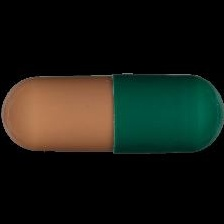24236-861: (0, 0, 224, 224)
